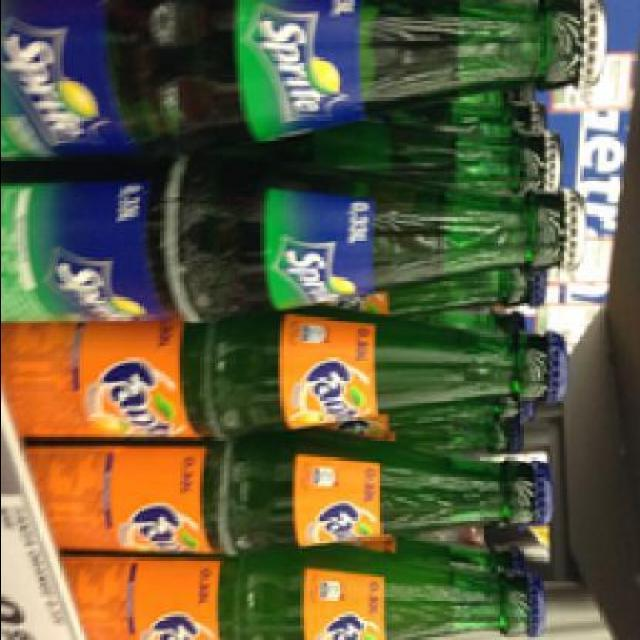Fanta: (3, 306, 571, 440), (29, 431, 557, 554), (64, 546, 548, 637)
